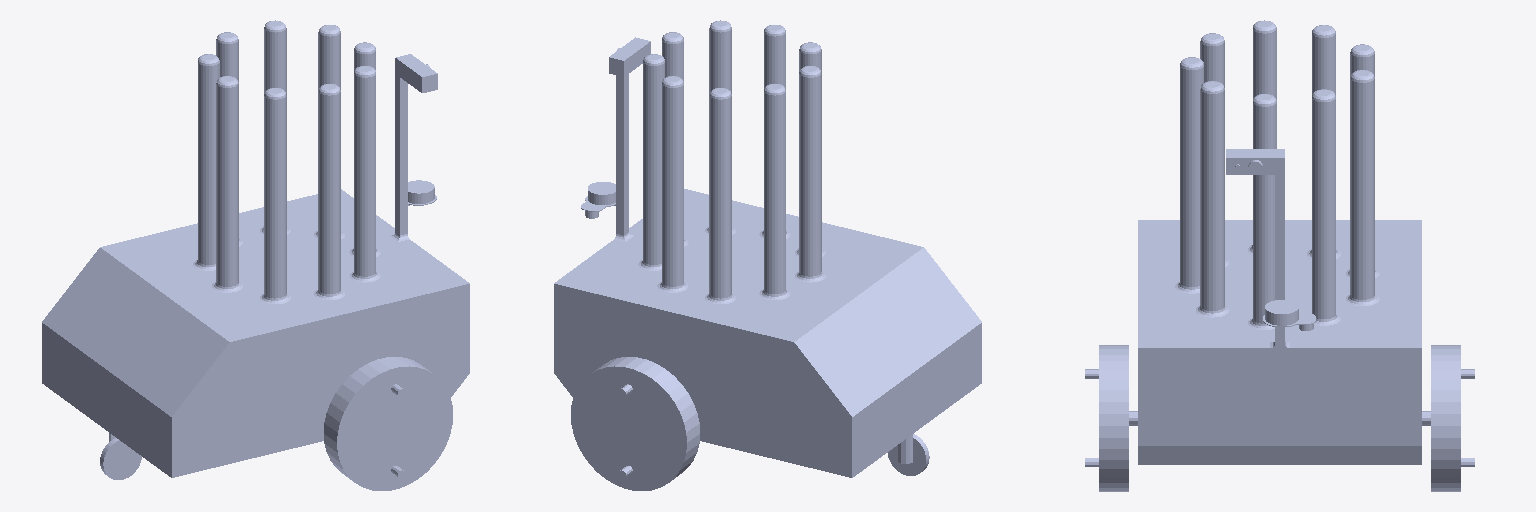
URDF robot description (autozuvc_urdf):
<?xml version="1.0" encoding="utf-8"?>
<!-- This URDF was automatically created by SolidWorks to URDF Exporter! Originally created by [author] ([email redacted]) 
     Commit Version: 1.5.1-0-g916b5db  Build Version: 1.5.7152.31018
     For more information, please see http://wiki.ros.org/sw_urdf_exporter -->
<robot
  name="autozuvc_urdf">
  
<gazebo>
<plugin filename="libgazebo_ros_diff_drive.so" name="differential_drive_controller">
<legacyMode>false</legacyMode>
<alwaysOn>true</alwaysOn>
<updateRate>20</updateRate>
<leftJoint>lcontinuous</leftJoint>
<rightJoint>rcontinuous</rightJoint>
<wheelSeparation>0.64</wheelSeparation>
<wheelDiameter>0.3</wheelDiameter>
<torque>0.1</torque>
<commandTopic>key_vel</commandTopic>
<odometryTopic>odom</odometryTopic>
<odometryFrame>odom</odometryFrame>
<robotBaseFrame>base_link</robotBaseFrame>
</plugin>
</gazebo>

<link
    name="base_link">
    <inertial>
      <origin
        xyz="0.017438 2.6499E-06  0.024051"
        rpy="0 0 1.5708" />
      <mass
        value="10" />
      <inertia
        ixx="8.3588"
        ixy="-0.0001332"
        ixz="7.7947E-05"
        iyy="6.1934"
        iyz="0.57541"
        izz="9.5271" />
    </inertial>
    <visual>
      <origin
        xyz="0 0 0"
        rpy="0 0 1.5708" />
      <geometry>
        <mesh
          filename="package://autozuvc_urdf/meshes/base_link.STL" />
      </geometry>
      <material
        name="">
        <color
          rgba="0.79216 0.81961 0.93333 1" />
      </material>
    </visual>
    <collision>
      <origin
        xyz="0 0 0"
        rpy="0 0 1.5708" />
      <geometry>
        <mesh
          filename="package://autozuvc_urdf/meshes/base_link.STL" />
      </geometry>
    </collision>
  </link>
  <link
    name="rwheel">
    <inertial>
      <origin
        xyz="0 0.030201 0"
        rpy="0 0 0" />
      <mass
        value="1" />
      <inertia
        ixx="0.047898"
        ixy="1.9365E-20"
        ixz="4.3729E-19"
        iyy="0.025154"
        iyz="0"
        izz="0.025342" />
    </inertial>
    <visual>
      <origin
        xyz="0 0 0"
        rpy="0 0 0" />
      <geometry>
        <mesh
          filename="package://autozuvc_urdf/meshes/rwheel.STL" />
      </geometry>
      <material
        name="">
        <color
          rgba="0.79216 0.81961 0.93333 1" />
      </material>
    </visual>
    <collision>
      <origin
        xyz="0 0 0"
        rpy="0 0 0" />
      <geometry>
        <mesh
          filename="package://autozuvc_urdf/meshes/rwheel.STL" />
      </geometry>
    </collision>
  </link>
  <joint
    name="rcontinuous"
    type="continuous">
    <origin
      xyz="0.145 0.31 -0.12"
      rpy="1.5708 0 1.5708" />
    <parent
      link="base_link" />
    <child
      link="rwheel" />
    <axis
      xyz="1 0 0" />
  </joint>
  <link
    name="lwheel">
    <inertial>
      <origin
        xyz="0 0.030201 0"
        rpy="0 0 0" />
      <mass
        value="1" />
      <inertia
        ixx="0.047898"
        ixy="-4.9271E-20"
        ixz="-1.1775E-19"
        iyy="0.025154"
        iyz="-8.6736E-19"
        izz="0.025342" />
    </inertial>
    <visual>
      <origin
        xyz="0 0 0"
        rpy="0 0 0" />
      <geometry>
        <mesh
          filename="package://autozuvc_urdf/meshes/lwheel.STL" />
      </geometry>
      <material
        name="">
        <color
          rgba="0.79216 0.81961 0.93333 1" />
      </material>
    </visual>
    <collision>
      <origin
        xyz="0 0 0"
        rpy="0 0 0" />
      <geometry>
        <mesh
          filename="package://autozuvc_urdf/meshes/lwheel.STL" />
      </geometry>
    </collision>
  </link>
  <joint
    name="lcontinuous"
    type="continuous">
    <origin
      xyz="0.145 -0.31 -0.12"
      rpy="-1.5708 0 -1.5708" />
    <parent
      link="base_link" />
    <child
      link="lwheel" />
    <axis
      xyz="1 0 0" />
  </joint>
  <link
    name="casterwheel">
    <inertial>
      <origin
        xyz="0 -0.0075 0"
        rpy="0 0 0" />
      <mass
        value="5" />
      <inertia
        ixx="0.00014725"
        ixy="2E-22"
        ixz="1.5913E-23"
        iyy="7.5811E-05"
        iyz="1.6941E-21"
        izz="7.5811E-05" />
    </inertial>
    <visual>
      <origin
        xyz="0 0 0"
        rpy="0 0 0" />
      <geometry>
        <mesh
          filename="package://autozuvc_urdf/meshes/casterwheel.STL" />
      </geometry>
      <material
        name="">
        <color
          rgba="0.79216 0.81961 0.93333 1" />
      </material>
    </visual>
    <collision>
      <origin
        xyz="0 0 0"
        rpy="0 0 0" />
      <geometry>
        <mesh
          filename="package://autozuvc_urdf/meshes/casterwheel.STL" />
      </geometry>
    </collision>
  </link>
  <joint
    name="ccontinuous"
    type="continuous">
    <origin
      xyz="-0.355 -0.005 -0.22"
      rpy="1.5708 0 1.5708" />
    <parent
      link="base_link" />
    <child
      link="casterwheel" />
    <axis
      xyz="1 0 0" />
  </joint>
  <link
    name="camera">
    <inertial>
      <origin
        xyz="0 -7.1444E-05 0.00093026"
        rpy="0 0 0" />
      <mass
        value="1" />
      <inertia
        ixx="5.6104E-05"
        ixy="7.9132E-21"
        ixz="3.0738E-07"
        iyy="0.00026142"
        iyz="2.0853E-21"
        izz="0.00025732" />
    </inertial>
    <visual>
      <origin
        xyz="0 0 0"
        rpy="0 0 0" />
      <geometry>
        <mesh
          filename="package://autozuvc_urdf/meshes/camera.STL" />
      </geometry>
      <material
        name="">
        <color
          rgba="0.79216 0.81961 0.93333 1" />
      </material>
    </visual>
    <collision>
      <origin
        xyz="0 0 0"
        rpy="0 0 0" />
      <geometry>
        <mesh
          filename="package://autozuvc_urdf/meshes/camera.STL" />
      </geometry>
    </collision>
  </link>
  <joint
    name="cfixed"
    type="fixed">
    <origin
      xyz="0.385 -0.05 0.57"
      rpy="1.5708 0 1.5708" />
    <parent
      link="base_link" />
    <child
      link="camera" />
    <axis
      xyz="0 0 0" />
  </joint>
  <link
    name="lidar">
    <inertial>
      <origin
        xyz="-0.0087923 0.0068576  0"
        rpy="0 0 0" />
      <mass
        value="1" />
      <inertia
        ixx="5.1112E-05"
        ixy="1.6315E-05"
        ixz="3.2735E-21"
        iyy="0.00010945"
        iyz="-4.5534E-21"
        izz="8.8822E-05" />
    </inertial>
    <visual>
      <origin
        xyz="0 0 0"
        rpy="0 0 0" />
      <geometry>
        <mesh
          filename="package://autozuvc_urdf/meshes/lidar.STL" />
      </geometry>
      <material
        name="">
        <color
          rgba="0.79216 0.81961 0.93333 1" />
      </material>
    </visual>
    <collision>
      <origin
        xyz="0 0 0"
        rpy="0 0 0" />
      <geometry>
        <mesh
          filename="package://autozuvc_urdf/meshes/lidar.STL" />
      </geometry>
    </collision>
  </link>
  <joint
    name="lfixed"
    type="fixed">
    <origin
      xyz="0.4225 0.00391941090707163 0.2345"
      rpy="1.5708 0 1.5708" />
    <parent
      link="base_link" />
    <child
      link="lidar" />
    <axis
      xyz="0 0 0" />
  </joint>
</robot>

--- What the picture shows (computed from the rendered views, not written in the file) ---
The picture shows the robot from 3 angles, left to right: view 1: azimuth 30°, elevation 25°; view 2: azimuth 150°, elevation 25°; view 3: azimuth 270°, elevation 25°; orthographic projection.
Robot: autozuvc_urdf — 6 links, 5 joints (3 continuous, 2 fixed); root link base_link; default pose: every joint at zero.
Visible links, largest first — view 1: base_link, lwheel, casterwheel, camera, lidar; view 2: base_link, rwheel, camera, lidar, casterwheel; view 3: base_link, rwheel, lwheel, camera, lidar.
Boxes of the visible links, box(x1,y1,x2,y2) form: base_link: box(42, 20, 469, 477); lwheel: box(324, 357, 452, 490); casterwheel: box(100, 438, 141, 479); camera: box(395, 54, 437, 92); lidar: box(408, 180, 436, 205); base_link: box(554, 20, 981, 477); rwheel: box(571, 357, 699, 490); camera: box(609, 37, 650, 76); lidar: box(581, 182, 615, 218); casterwheel: box(888, 434, 929, 475); base_link: box(1129, 20, 1430, 464); rwheel: box(1431, 345, 1474, 491); lwheel: box(1085, 345, 1128, 491); camera: box(1226, 149, 1284, 174); lidar: box(1263, 300, 1315, 330).
Size in the robot's own frame: 0.865 by 0.8 by 0.93 metres.
6 mesh visuals loaded from 6 distinct referenced files (6 binary STL).